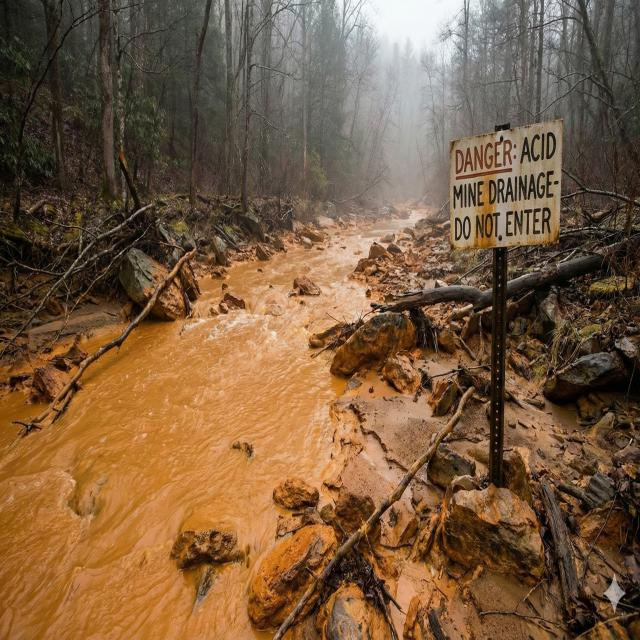yellow_boy: (0, 230, 374, 638)
